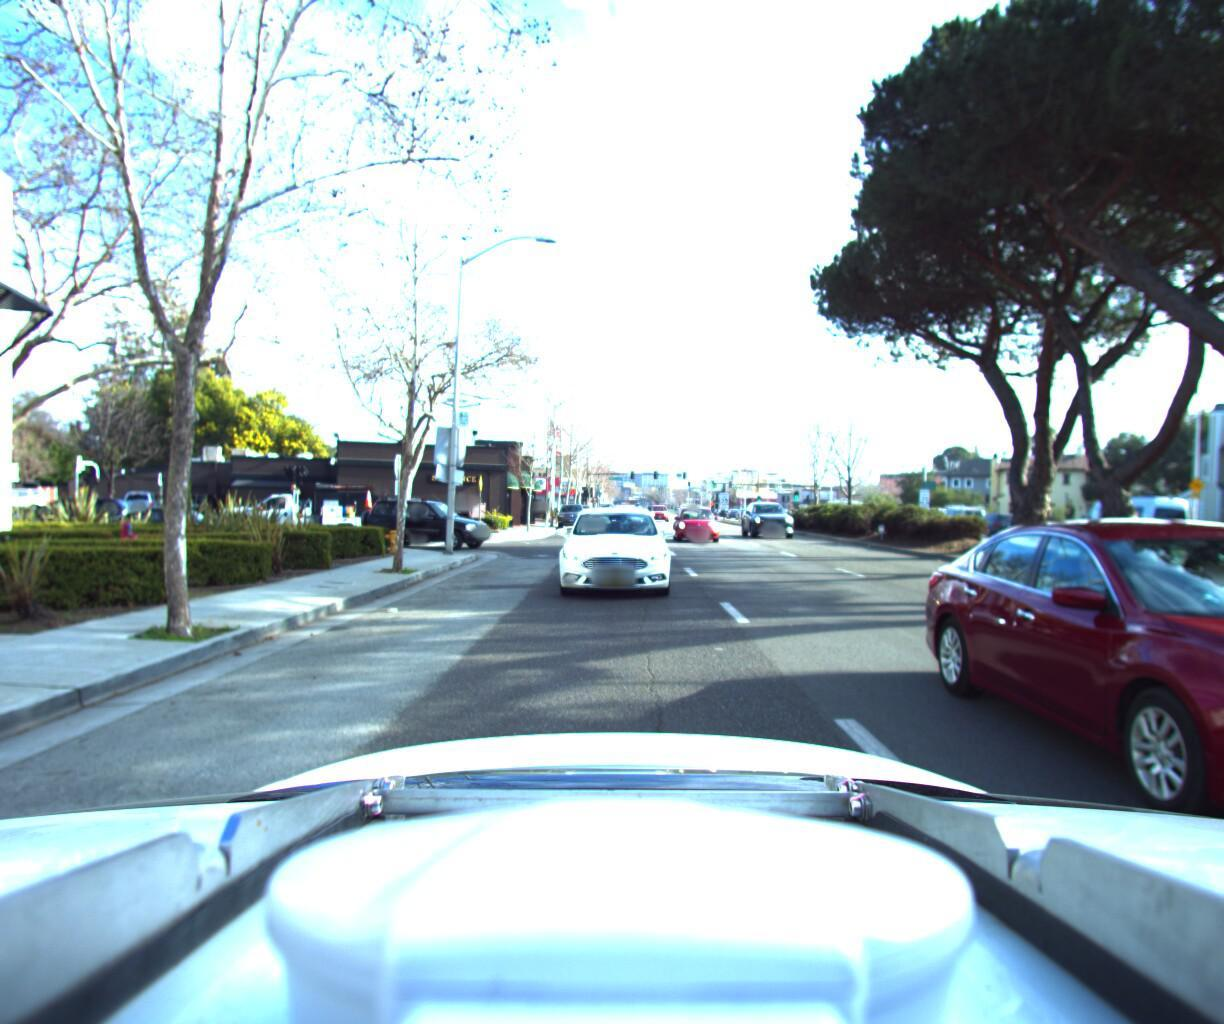car: (944, 482, 1224, 1024), (205, 456, 382, 543), (548, 495, 673, 600), (1061, 484, 1198, 548), (353, 491, 498, 550), (91, 497, 258, 548), (741, 491, 800, 533), (1171, 513, 1224, 557), (671, 497, 724, 540), (930, 495, 989, 530), (963, 502, 1023, 533), (556, 493, 586, 524), (648, 495, 670, 514)
